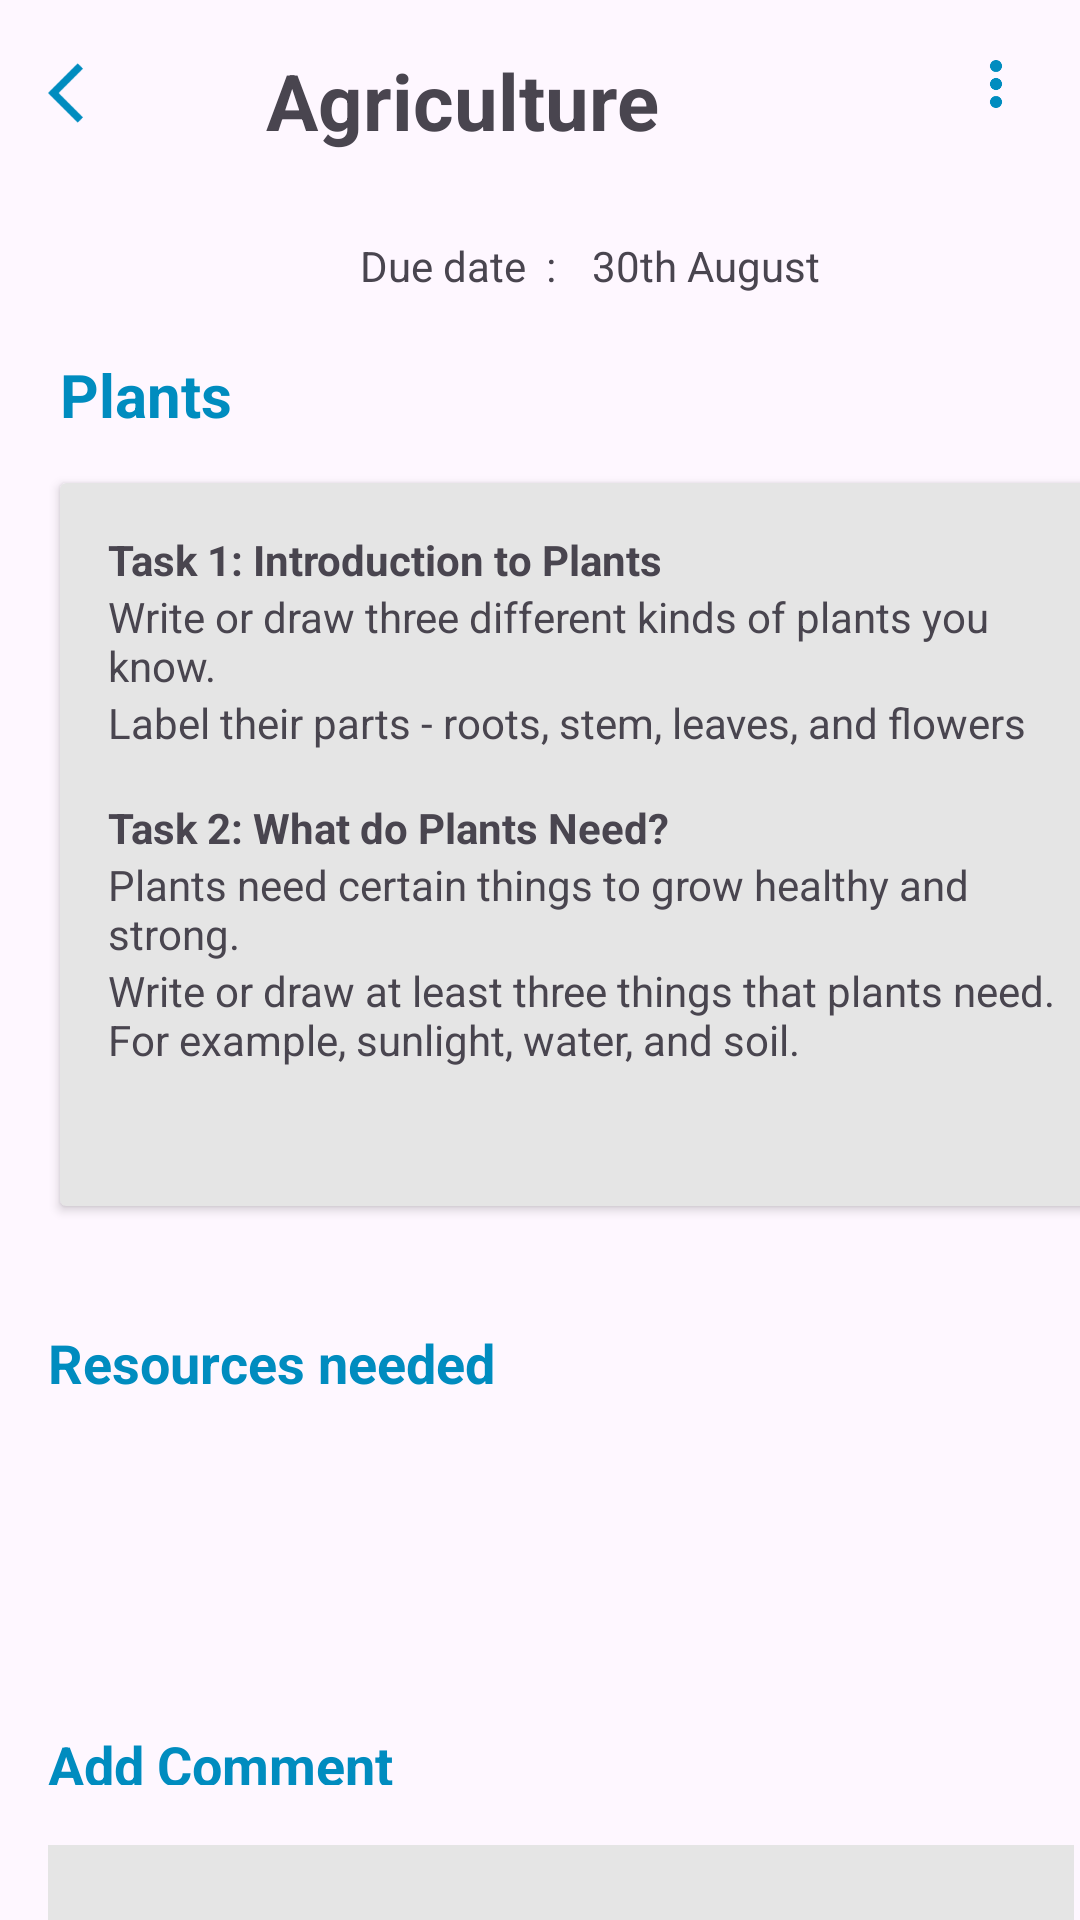

Point at icon controls on the screen. Image size 1080×1920, points as point (x, y).
backarrow: point (65, 93)
dots: point (996, 84)
